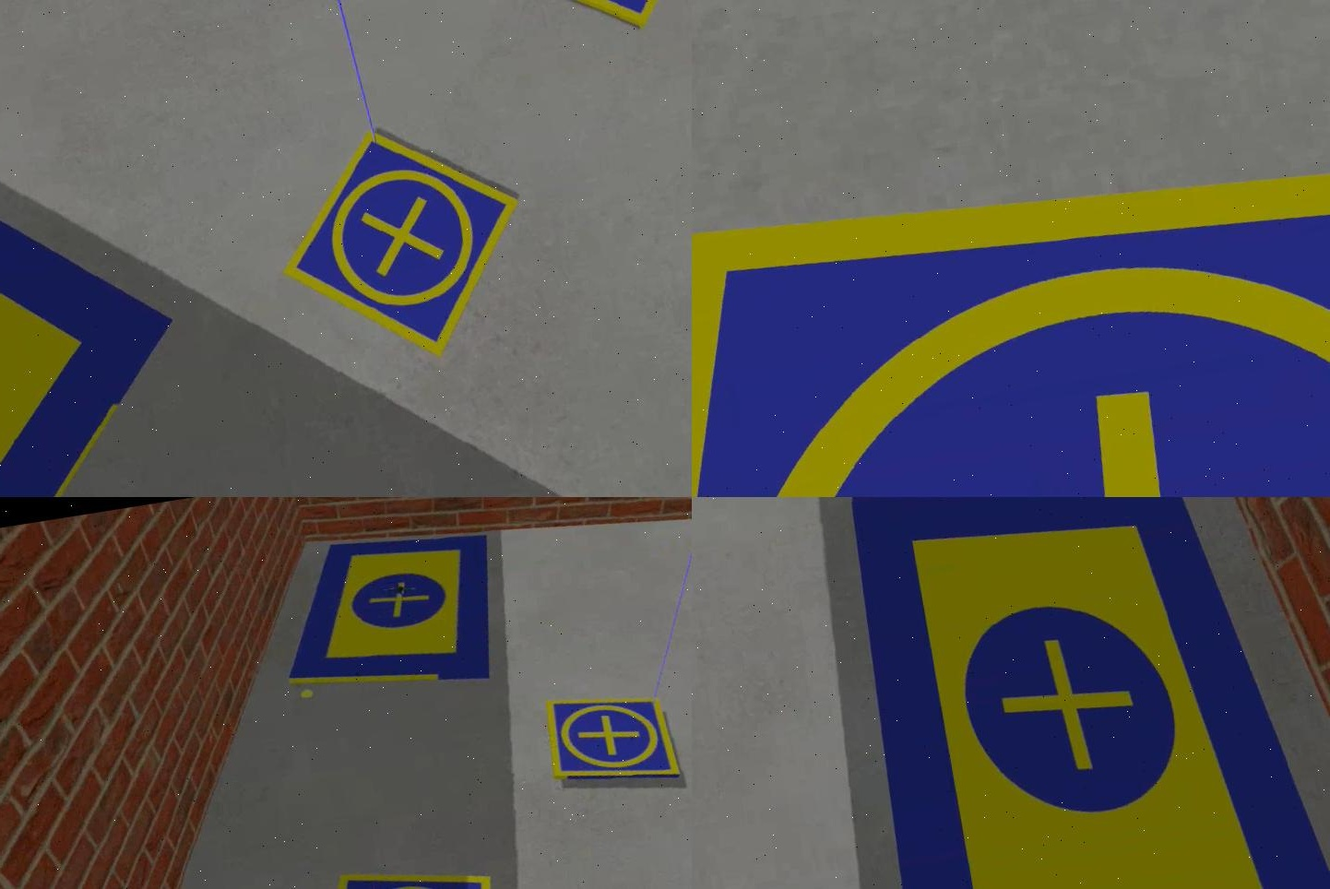large_base: (836, 498, 1328, 889), (0, 52, 230, 498), (266, 516, 511, 713)
small_base: (690, 81, 1328, 498), (258, 107, 543, 376), (540, 683, 680, 798), (484, 1, 690, 53)
